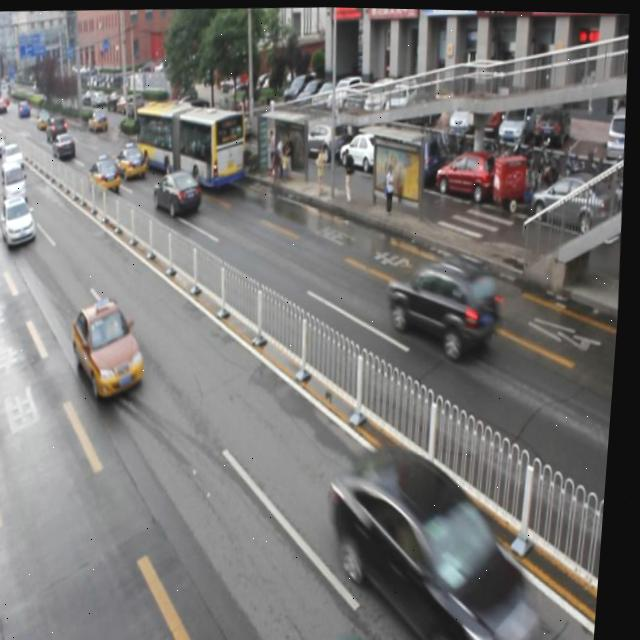car: (328, 436, 552, 640), (387, 251, 509, 357), (71, 294, 153, 399), (152, 169, 204, 216), (2, 195, 42, 249), (89, 153, 123, 193), (114, 141, 148, 178)
truck: (2, 163, 32, 201)
van: (131, 96, 250, 193)
